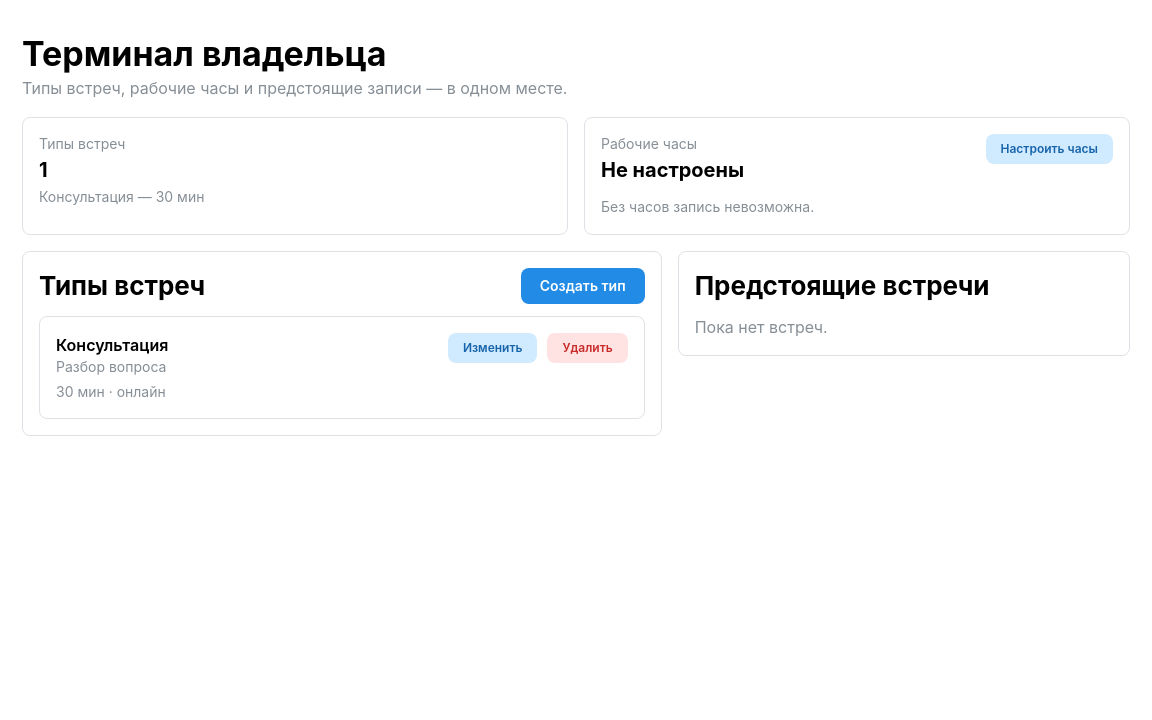
Scenario: Поверхность владельца › редактирует тип события
The image size is (1152, 720).
Click the button "Изменить" at (493, 348), box [448,333,538,363]
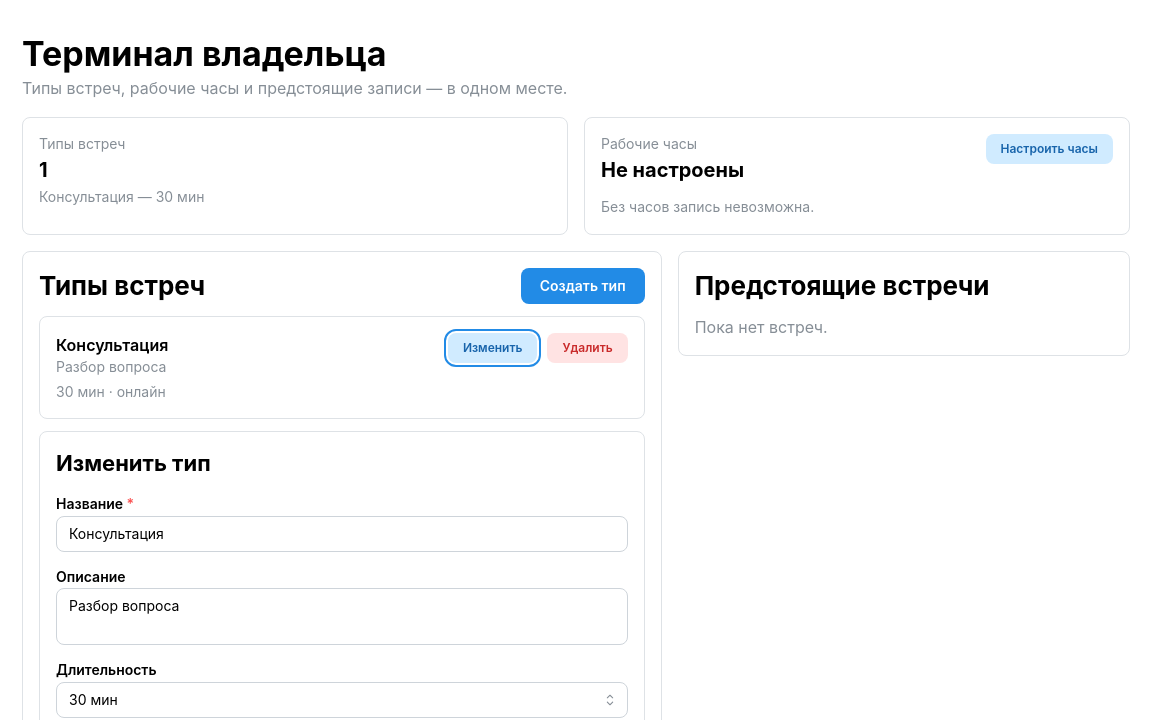
Replace the text in the field labelled "Название *" with "Консультация v2" at (342, 534), box [56,516,628,552]
(page scrolled)
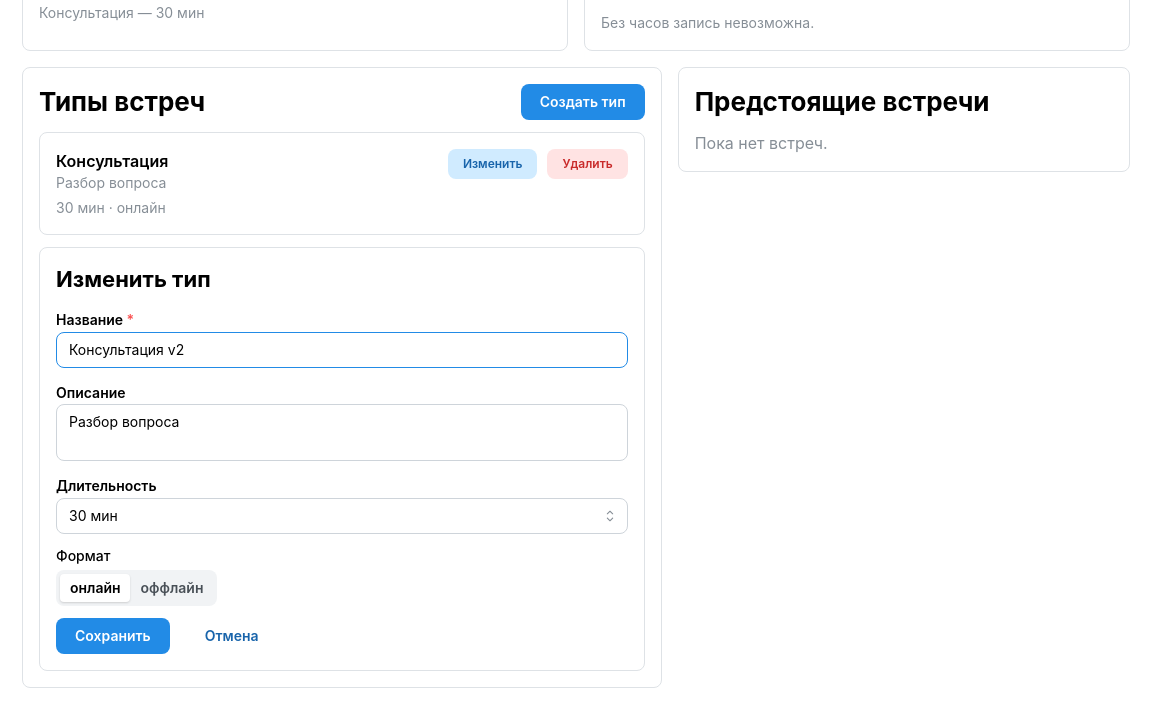
Click the button "Сохранить" at (113, 636), box [56,618,170,654]
(page scrolled)
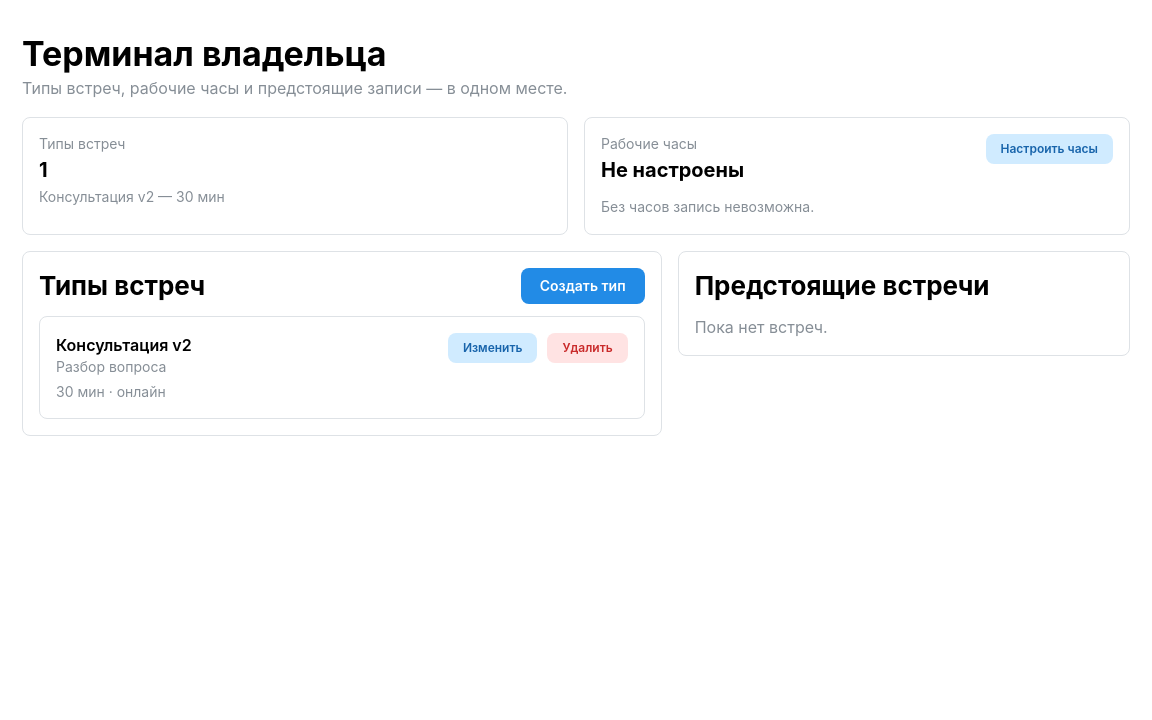
Check: the text "Консультация v2" is shown, box [56,333,192,357]
